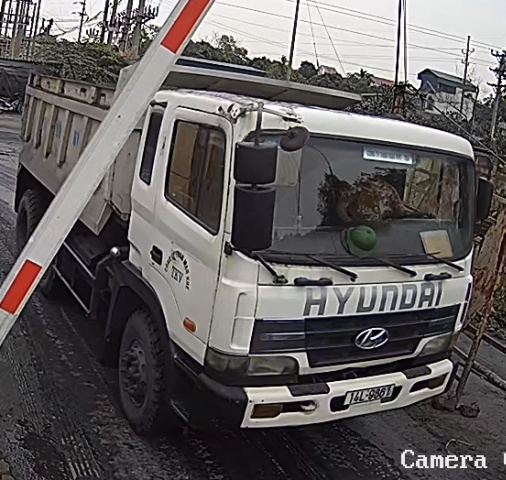vehicle plate: (340, 383, 404, 409)
